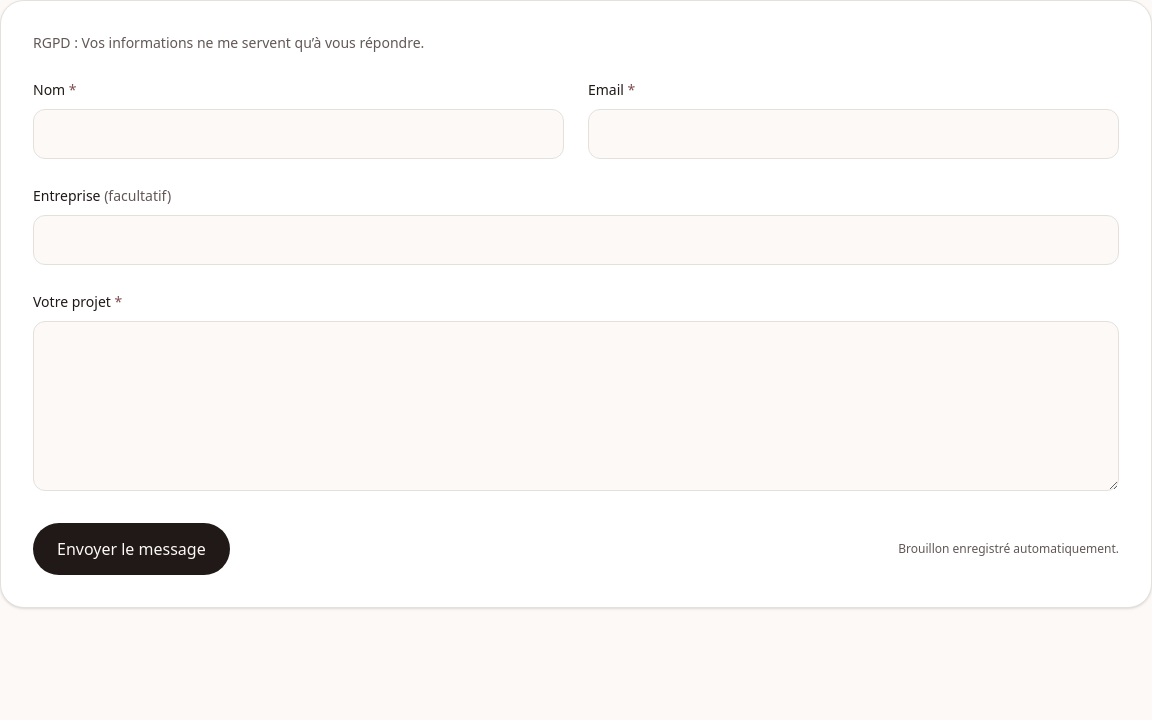
Test: ContactForm › keeps the typed values after a failed validation
The image size is (1152, 720).
Type "Ada" into the field labelled "Nom" at (298, 134), box [33,109,564,159]
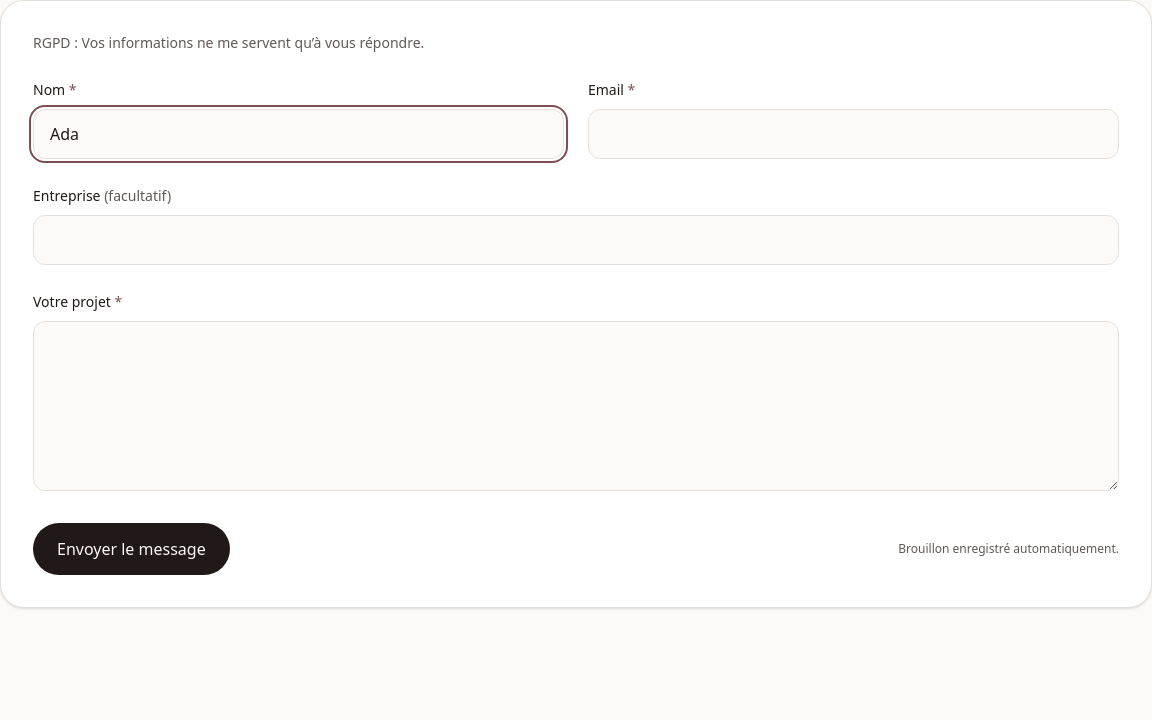
Click the button "Envoyer le message" at (131, 549), box [33,523,230,575]
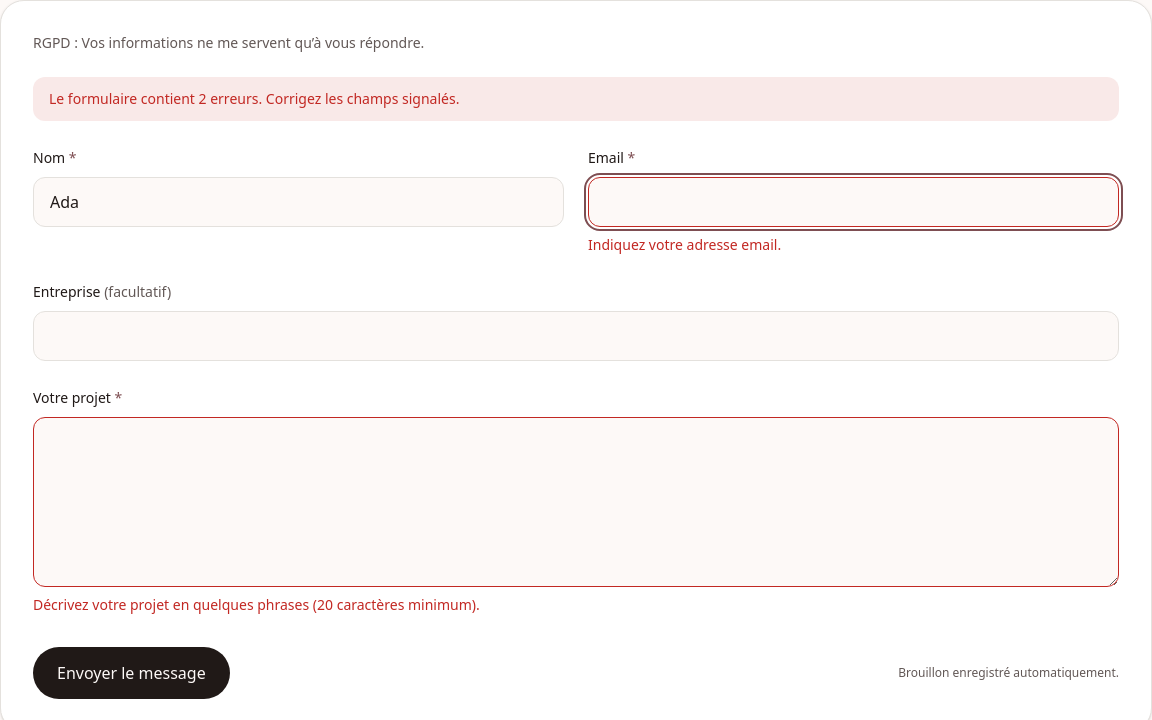
Expected: the message "Le formulaire contient 2 erreurs. Corrigez les champs signalés." is shown, [33,77,1119,121]
